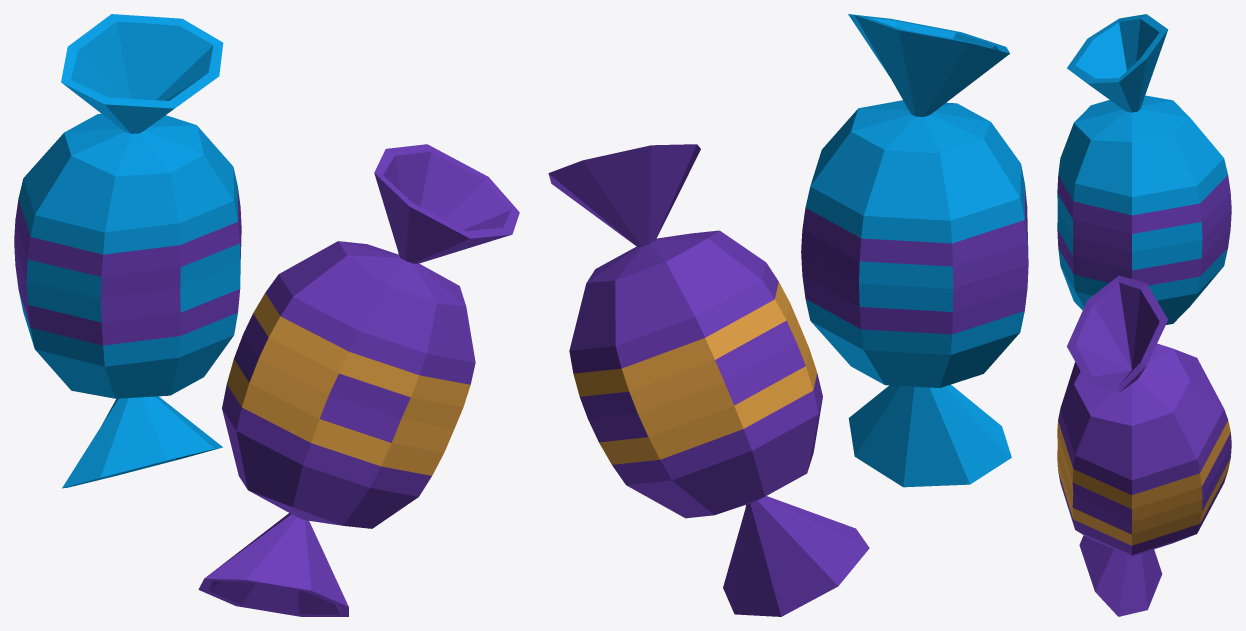
File: toffee Candy.fbx
3 renders of one model, left to right at view 1: azimuth 30°, elevation 25°; view 2: azimuth 150°, elevation 25°; view 3: azimuth 270°, elevation 25°, orthographic. The views are drawn at different scales.
Visible parts, largest first — view 1: imagetostl_mesh1, imagetostl_mesh0, imagetostl_mesh2; view 2: imagetostl_mesh1, imagetostl_mesh0, imagetostl_mesh2; view 3: imagetostl_mesh1, imagetostl_mesh0, imagetostl_mesh2.
Part boxes in pixels (x1,y1,x2,y2): imagetostl_mesh1: (14, 144, 519, 616); imagetostl_mesh0: (18, 14, 240, 488); imagetostl_mesh2: (227, 293, 470, 475); imagetostl_mesh1: (548, 144, 1028, 616); imagetostl_mesh0: (805, 14, 1028, 487); imagetostl_mesh2: (573, 282, 817, 464); imagetostl_mesh1: (1057, 175, 1231, 616); imagetostl_mesh0: (1057, 14, 1227, 324); imagetostl_mesh2: (1057, 420, 1230, 545).
Size of the model in its own units: 788 by 988 by 306.
